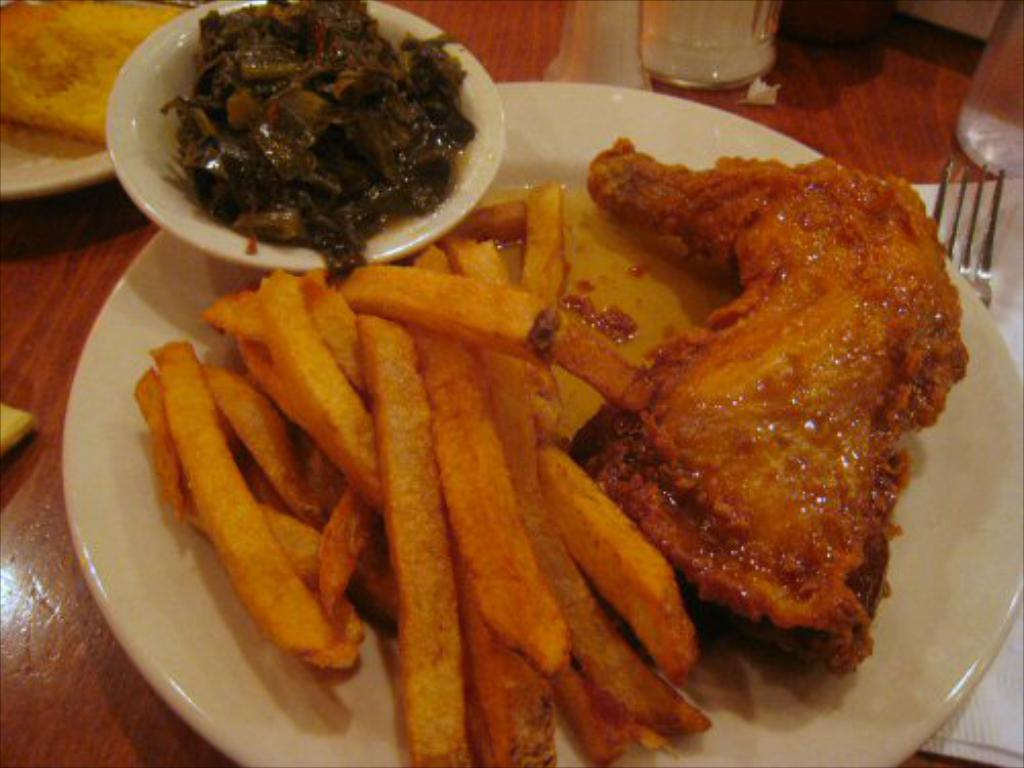French fries: (112, 208, 782, 722)
